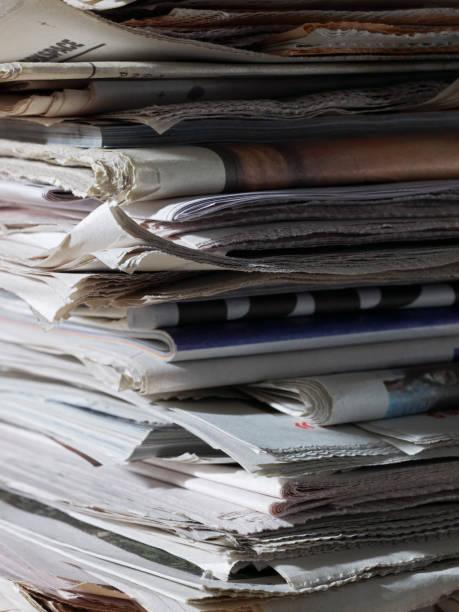paper: (0, 462, 459, 611), (0, 183, 459, 319), (0, 366, 459, 467), (0, 57, 459, 119), (0, 139, 459, 199), (0, 0, 459, 58), (0, 320, 459, 367), (0, 114, 459, 148)
